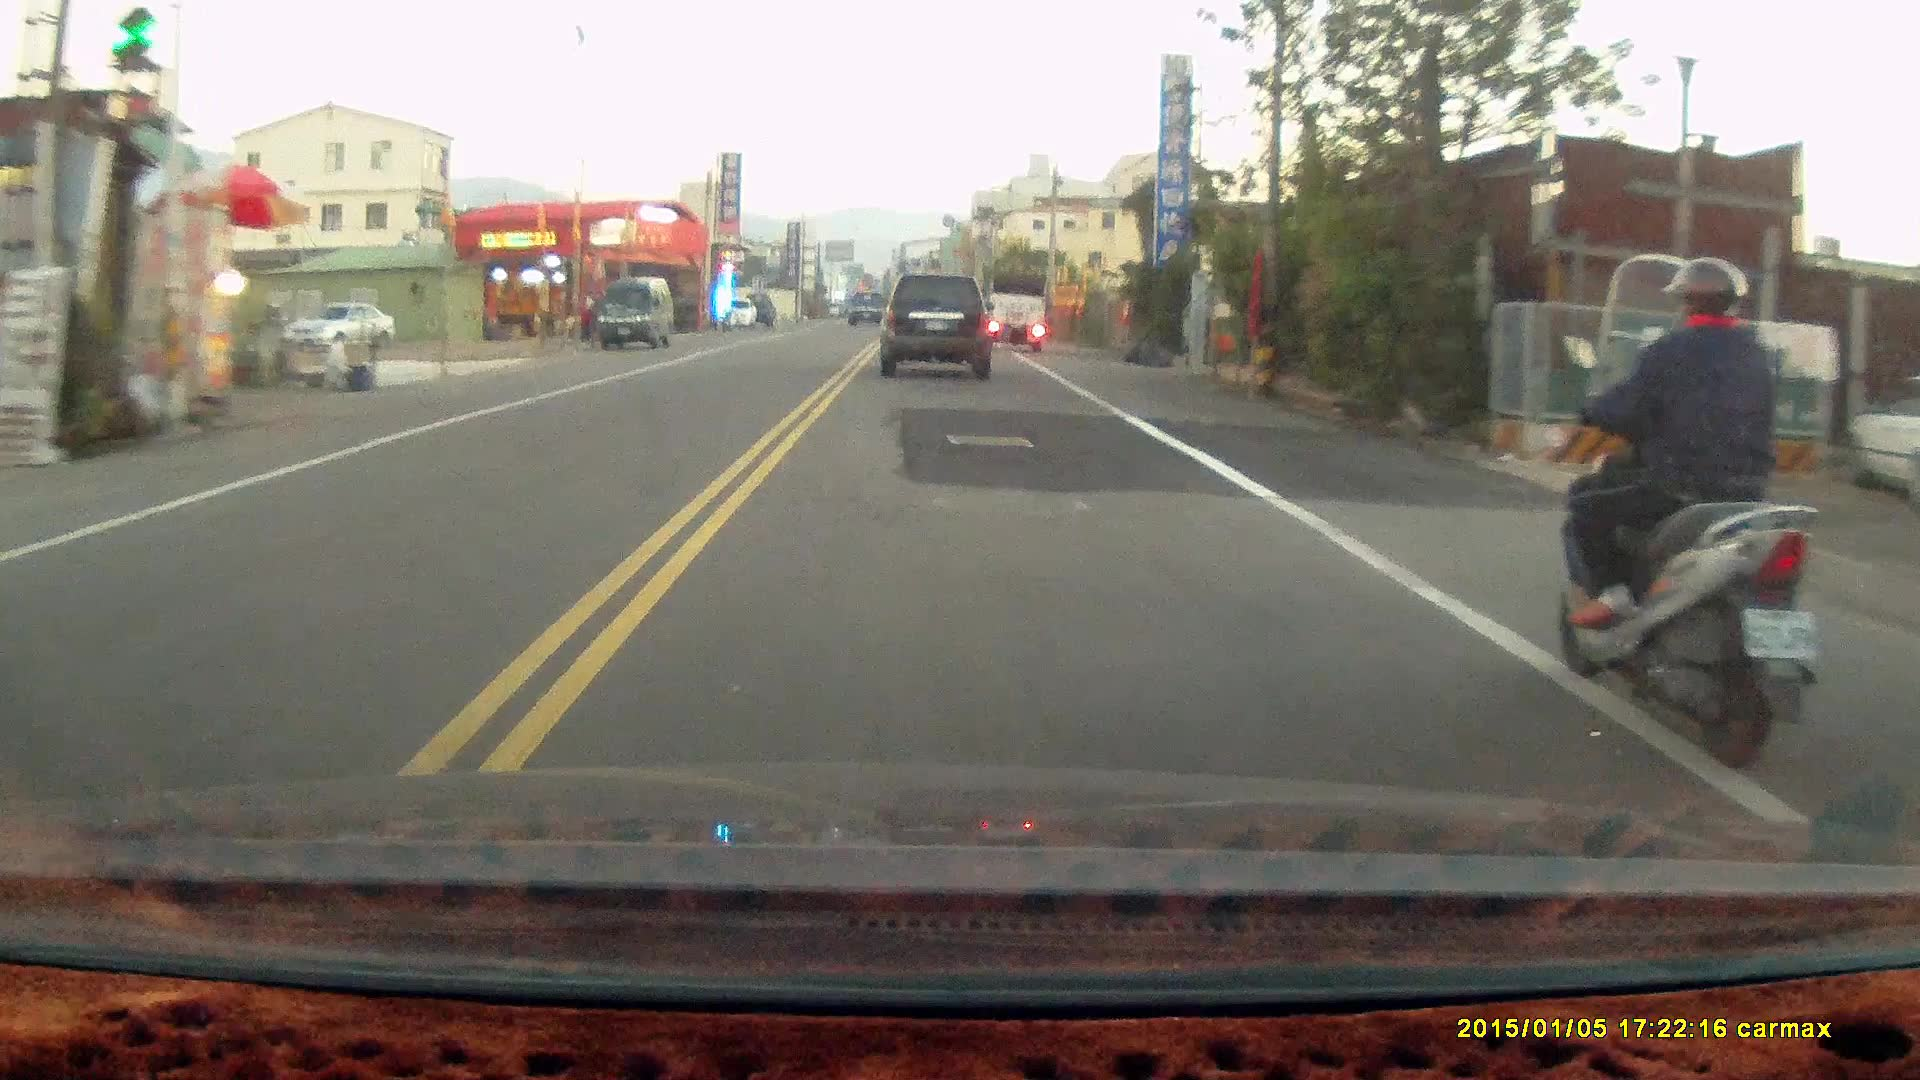rider: (1554, 255, 1817, 768)
vehicle: (880, 275, 997, 382), (596, 276, 676, 352), (286, 302, 398, 352), (987, 273, 1050, 353)
